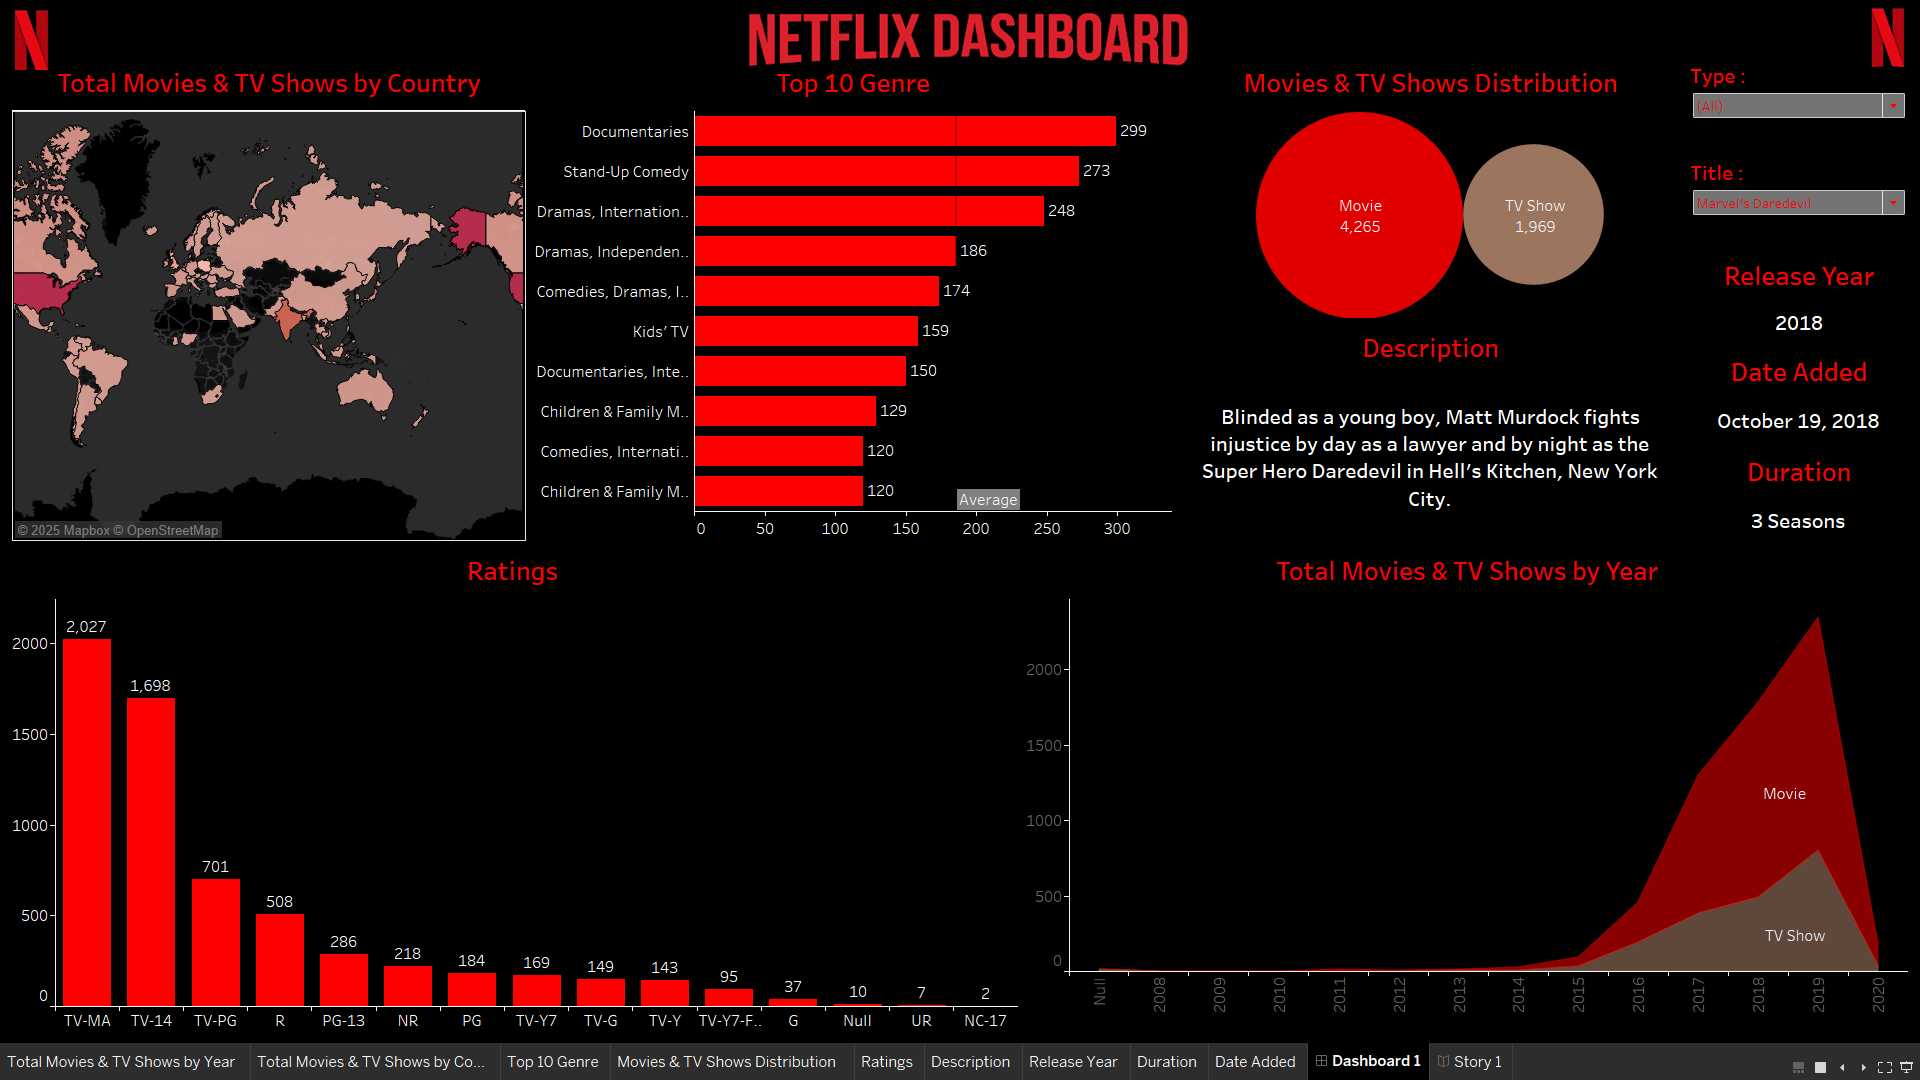

This screenshot's page, from the dashboard's own definition file:
{"tool":"tableau","page":{"name":"Dashboard 1","canvas":[1000,1000],"units":"permille","ordinal":0},"visuals":[{"type":"image","param":"D:/CTTC/Logo/netflix4.png","box":[348.8,4.7,310.8,68.5]},{"type":"image","param":"D:/CTTC/Logo/netflix1.png","box":[971.6,8.1,22.3,56.9]},{"type":"image","param":"D:/CTTC/Logo/netflix1.png","box":[3,9.3,25.9,58.1]},{"type":"title","box":[4.8,9.4,990.3,57.6]},{"type":"image","param":"C:/Users/dell/Downloads/download-removebg-preview.png","box":[903,10.5,92.8,49.9]},{"type":"image","param":"C:/Users/dell/Downloads/download-removebg-preview.png","box":[7.3,13.9,92.8,49.9]},{"type":"worksheet","title":"Total Movies & TV Shows by Country","mark":"Automatic","box":[4.8,67,271.6,461.1]},{"type":"worksheet","title":"Top 10 Genre","mark":"Automatic","rows":["listed_in"],"cols":["show_id"],"box":[276.4,67,336.2,461.1]},{"type":"worksheet","title":"Movies & TV Shows Distribution","mark":"Circle","box":[612.6,67,264.9,250.5]},{"type":"filter","title":"Description","param":"[federated.1p1ccgy0pwwjmb1cuqfl70rvfcs1].[none:type:nk]","box":[877.5,67,117.7,91.6]},{"type":"filter","title":"Description","param":"[federated.1p1ccgy0pwwjmb1cuqfl70rvfcs1].[none:title:nk]","box":[877.5,158.6,117.7,90.7]},{"type":"worksheet","title":"Release Year","mark":"Automatic","box":[877.5,249.3,117.7,90.7]},{"type":"worksheet","title":"Description","mark":"Automatic","box":[612.6,317.5,264.9,210.6]},{"type":"worksheet","title":"Date Added","mark":"Automatic","box":[877.5,340.1,117.7,94]},{"type":"worksheet","title":"Duration","mark":"Automatic","box":[877.5,434.1,117.7,94]},{"type":"worksheet","title":"Ratings","mark":"Automatic","rows":["show_id"],"cols":["rating"],"box":[4.8,528.1,527.4,462.5]},{"type":"worksheet","title":"Total Movies & TV Shows by Year","mark":"Area","rows":["show_id"],"cols":["date_added"],"box":[532.2,528.1,462.9,462.5]}]}

Visuals, with their boxes on the dashboard's canvas, which has no fixed pixel size, in thousandths of its width and height (x1, y1, x2, y2). These are canvas units, not pixel positions in the 1920x1080 screenshot, which may show the page scaled, cropped or inside an application window:
image: [left=349, top=5, right=660, bottom=73]
image: [left=972, top=8, right=994, bottom=65]
image: [left=3, top=9, right=29, bottom=67]
title: [left=5, top=9, right=995, bottom=67]
image: [left=903, top=10, right=996, bottom=60]
image: [left=7, top=14, right=100, bottom=64]
"Total Movies & TV Shows by Country" worksheet: [left=5, top=67, right=276, bottom=528]
"Top 10 Genre" worksheet: [left=276, top=67, right=613, bottom=528]
"Movies & TV Shows Distribution" worksheet (Circle marks): [left=613, top=67, right=878, bottom=318]
"Description" filter: [left=878, top=67, right=995, bottom=159]
"Description" filter: [left=878, top=159, right=995, bottom=249]
"Release Year" worksheet: [left=878, top=249, right=995, bottom=340]
"Description" worksheet: [left=613, top=318, right=878, bottom=528]
"Date Added" worksheet: [left=878, top=340, right=995, bottom=434]
"Duration" worksheet: [left=878, top=434, right=995, bottom=528]
"Ratings" worksheet: [left=5, top=528, right=532, bottom=991]
"Total Movies & TV Shows by Year" worksheet (Area marks): [left=532, top=528, right=995, bottom=991]
